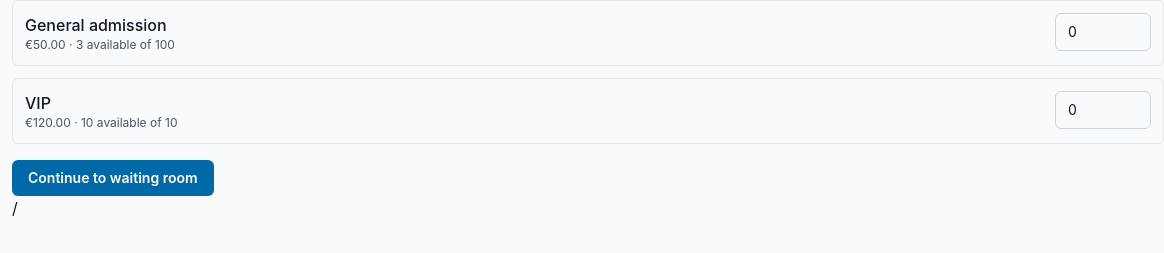
Test case: ticket selection validation › rejects a quantity above the ten-ticket limit
Replace the text in the number field labelled "VIP" with "11" at {"x": 1103, "y": 110}, box x1=1055 y1=91 x2=1151 y2=129
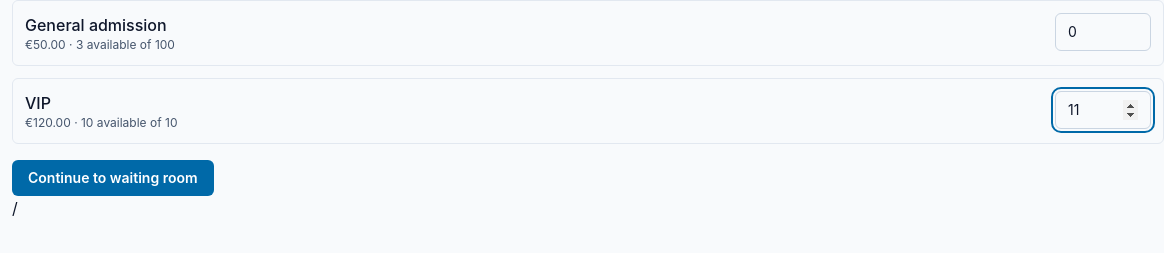
Click the button "Continue to waiting room" at {"x": 113, "y": 178}, box x1=12 y1=160 x2=214 y2=196
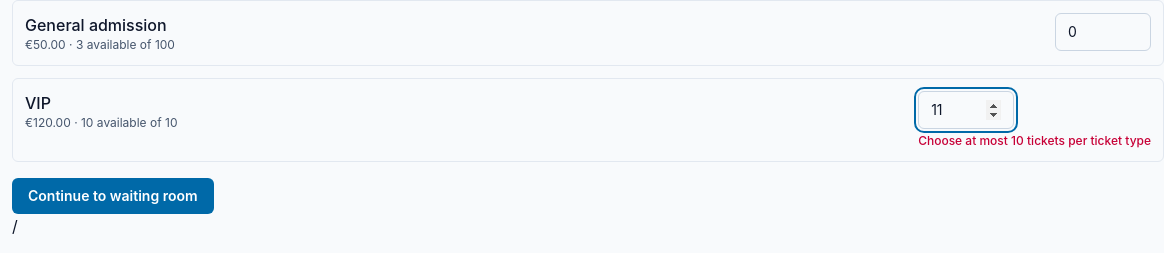
Expected: the text with test id "location" reads "/", x1=12 y1=216 x2=18 y2=236
Result: the text "Choose at most 10 tickets per ticket type" is shown at x1=918 y1=133 x2=1151 y2=149
